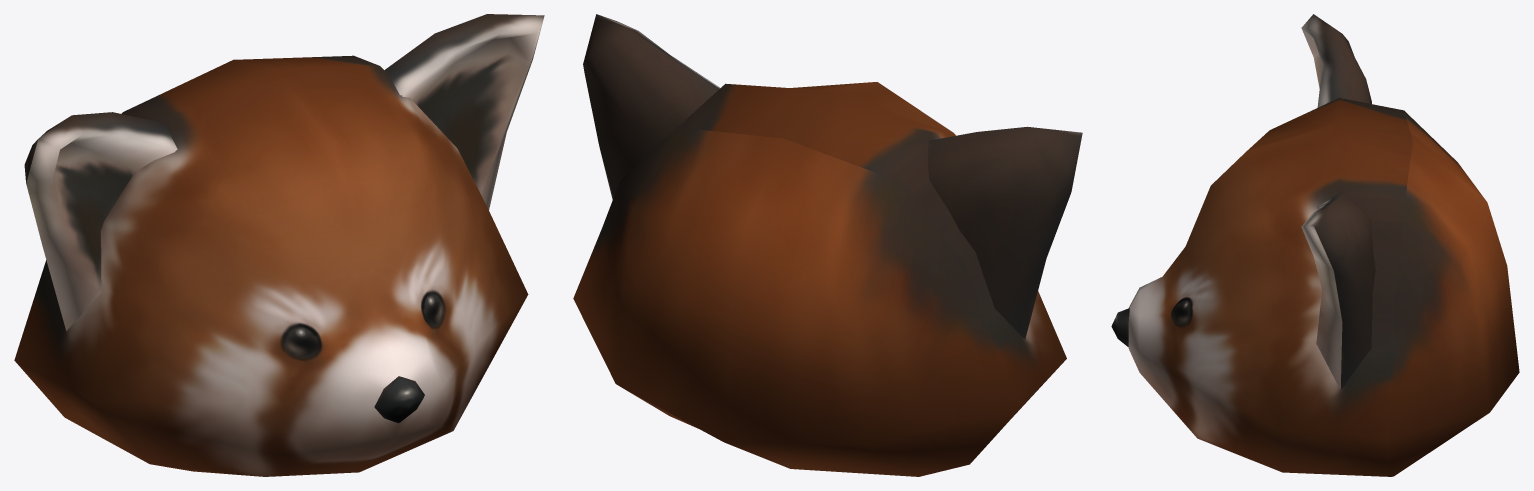
The model's file is ENV2010083.fbx.
3 views of the same model, side by side, from view 1: azimuth 30°, elevation 25°; view 2: azimuth 150°, elevation 25°; view 3: azimuth 270°, elevation 25° (orthographic). The views are drawn at different scales.
Visible parts, largest first — view 1: smENV2010083; view 2: smENV2010083; view 3: smENV2010083.
Boxes of the visible parts, x1,y1,x2,y2 form: smENV2010083: (14,14,544,476); smENV2010083: (573,14,1082,476); smENV2010083: (1111,14,1519,476).
Size of the model in its own units: 18.69 by 13.33 by 15.26.
Materials: 1 (1 with a texture image).
